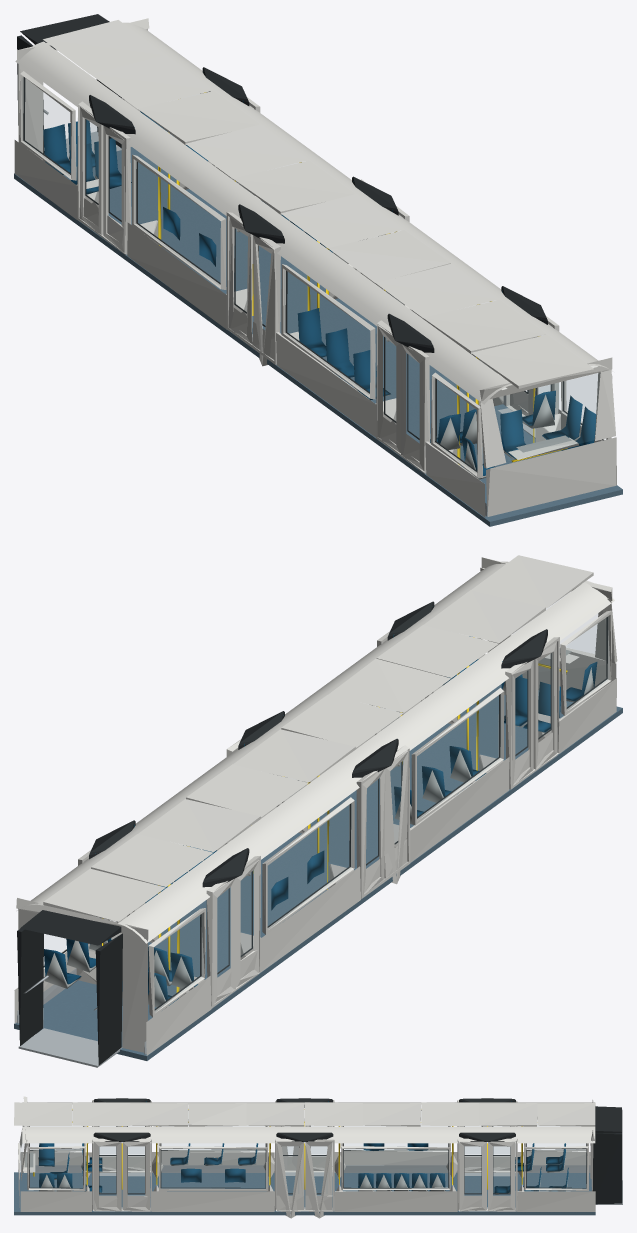
The model's file is mark-v-a-car-interior.lod1.glb.
3 renders of one model, top to bottom at view 1: azimuth 30°, elevation 25°; view 2: azimuth 150°, elevation 25°; view 3: azimuth 270°, elevation 25°, orthographic. The views are drawn at different scales.
Parts seen in each view (by area): view 1: interior-batch-panel, interior-batch-glass, interior-batch-floor, interior-batch-seat, interior-batch-rubber, interior-batch-shell, interior-batch-rail; view 2: interior-batch-panel, interior-batch-glass, interior-batch-floor, interior-batch-rubber, interior-batch-seat, interior-batch-shell, interior-batch-metal, interior-batch-rail; view 3: interior-batch-panel, interior-batch-glass, interior-batch-floor, interior-batch-rubber, interior-batch-seat, interior-batch-metal, interior-batch-shell, interior-batch-rail.
Part boxes in pixels (left/top/right/bottom): interior-batch-panel: left=14, top=18, right=616, bottom=517; interior-batch-glass: left=22, top=78, right=599, bottom=472; interior-batch-floor: left=14, top=147, right=622, bottom=526; interior-batch-seat: left=43, top=111, right=596, bottom=475; interior-batch-rubber: left=17, top=14, right=603, bottom=472; interior-batch-shell: left=69, top=156, right=580, bottom=479; interior-batch-rail: left=158, top=92, right=567, bottom=464; interior-batch-panel: left=14, top=555, right=617, bottom=1055; interior-batch-glass: left=44, top=614, right=608, bottom=1011; interior-batch-floor: left=14, top=684, right=622, bottom=1060; interior-batch-rubber: left=17, top=601, right=607, bottom=1065; interior-batch-seat: left=44, top=636, right=597, bottom=1005; interior-batch-shell: left=44, top=648, right=593, bottom=1008; interior-batch-metal: left=17, top=755, right=557, bottom=1067; interior-batch-rail: left=102, top=637, right=567, bottom=992; interior-batch-panel: left=14, top=1096, right=595, bottom=1218; interior-batch-glass: left=20, top=1139, right=586, bottom=1193; interior-batch-floor: left=14, top=1172, right=595, bottom=1215; interior-batch-rubber: left=29, top=1098, right=622, bottom=1204; interior-batch-seat: left=39, top=1143, right=568, bottom=1193; interior-batch-metal: left=21, top=1165, right=622, bottom=1211; interior-batch-shell: left=24, top=1149, right=568, bottom=1194; interior-batch-rail: left=33, top=1109, right=522, bottom=1189.
Bounding box in the file's own units: 2.76 × 2.51 × 16.34.
10 materials, 3 textured.
